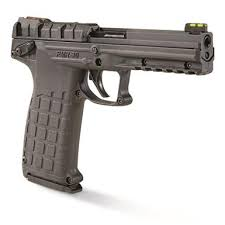gun: (9, 15, 215, 194)
